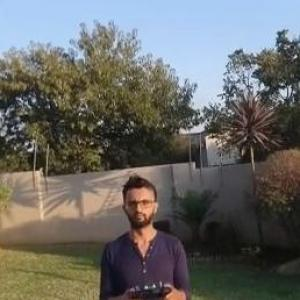follow: (88, 164, 193, 299)
